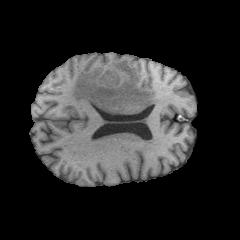glioma: (72, 59, 156, 112)
